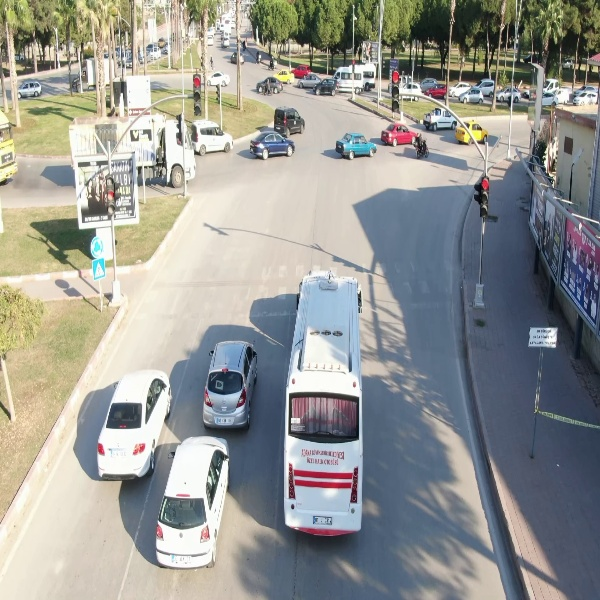car: (278, 268, 367, 539), (154, 435, 231, 573), (96, 368, 176, 484), (200, 338, 262, 434), (248, 128, 298, 159), (190, 120, 233, 156), (334, 130, 379, 160), (377, 120, 417, 147), (14, 77, 44, 101), (312, 77, 341, 99), (567, 89, 599, 107), (457, 87, 483, 106), (206, 71, 230, 90)
